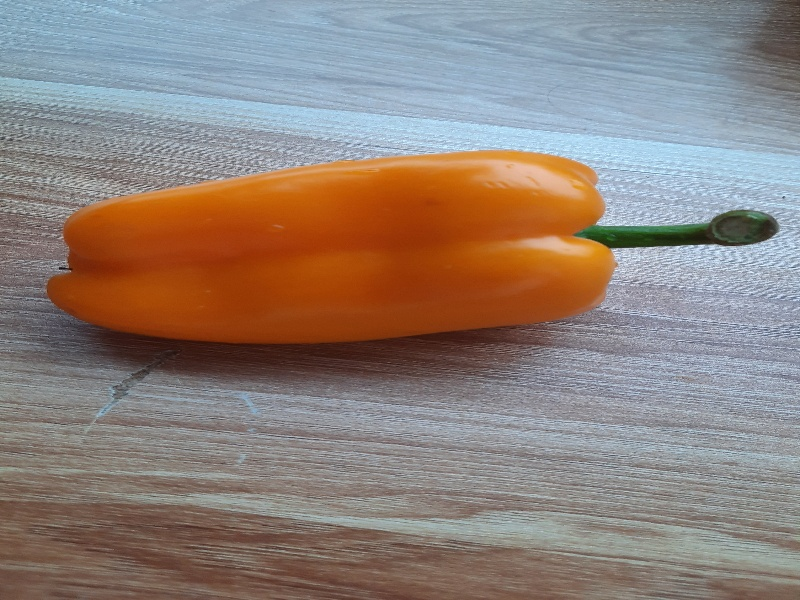vege: (40, 153, 788, 348)
